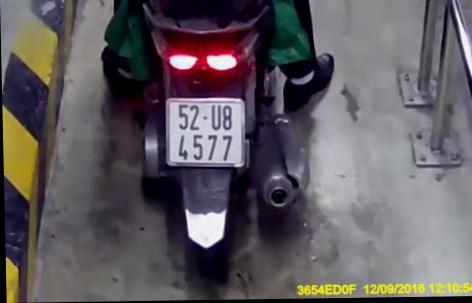License_Plate: (154, 92, 249, 170)
